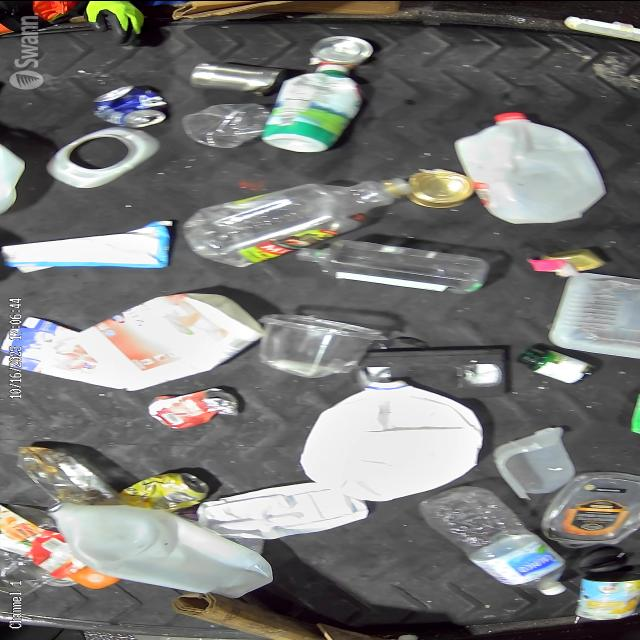can: (150, 386, 238, 426), (125, 471, 213, 506), (86, 86, 162, 126), (185, 62, 286, 90), (411, 168, 469, 206), (310, 34, 380, 60)
milk_jug: (299, 373, 469, 502), (446, 105, 612, 225), (50, 494, 256, 590)
non_white_jug: (80, 292, 260, 380)
plastic_bottle: (189, 172, 411, 260), (424, 488, 558, 593), (293, 244, 475, 288)
